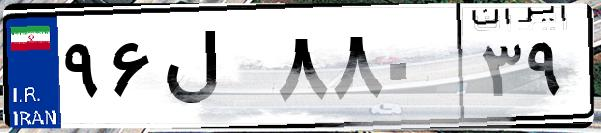0: (385, 28, 445, 110)
3: (475, 38, 525, 113)
6: (110, 28, 158, 98)
8: (270, 28, 330, 110), (330, 28, 385, 110)
9: (57, 26, 110, 100), (525, 38, 570, 115)
ل: (158, 20, 270, 120)
